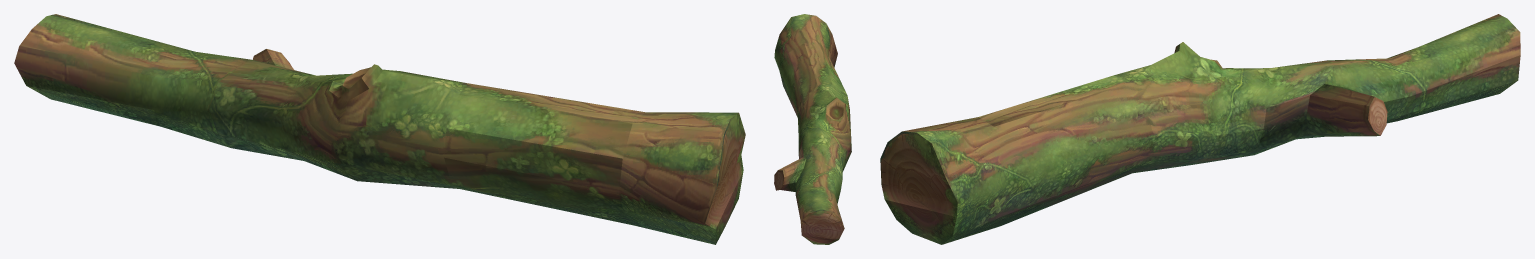
File: Botany_prt_fild_kushugan01_02_new.FBX
3 views of the same model, side by side, from view 1: azimuth 30°, elevation 25°; view 2: azimuth 150°, elevation 25°; view 3: azimuth 270°, elevation 25° (orthographic). The views are drawn at different scales.
Visible parts, largest first — view 1: Botany_prt_fild_kushugan01_02_new; view 2: Botany_prt_fild_kushugan01_02_new; view 3: Botany_prt_fild_kushugan01_02_new.
Boxes of the visible parts, box(x1,y1,x2,y2) form: Botany_prt_fild_kushugan01_02_new: box(14, 14, 745, 244); Botany_prt_fild_kushugan01_02_new: box(774, 14, 851, 244); Botany_prt_fild_kushugan01_02_new: box(880, 14, 1520, 244).
Bounding box in the file's own units: 117 × 32.72 × 165.
